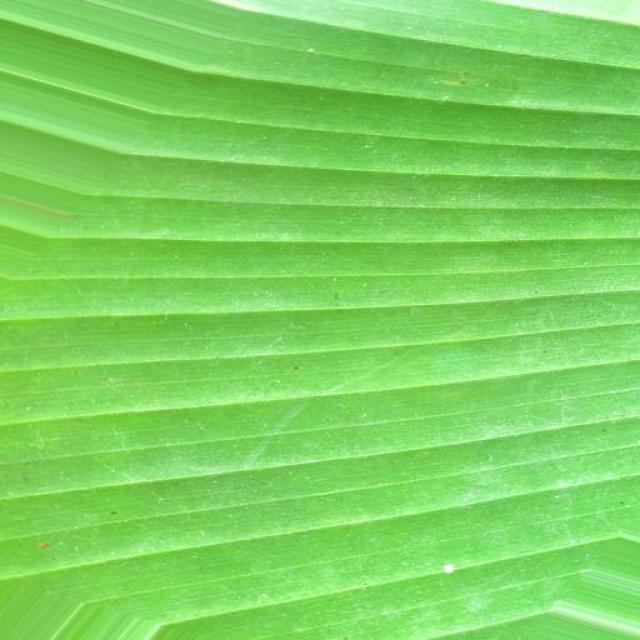Black_leaf_spot: (30, 8, 640, 617)
